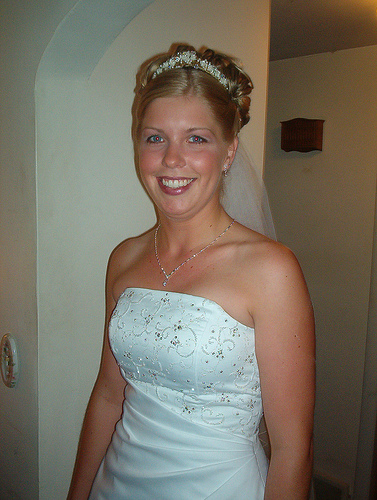without_mask: (131, 84, 240, 221)
